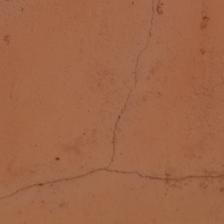Crack: (61, 37, 162, 123), (201, 0, 224, 140)
